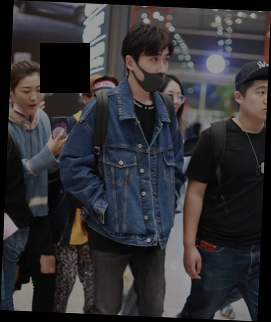mask_weared_incorrect: (136, 51, 172, 94), (14, 81, 46, 115)
without_mask: (245, 84, 267, 121), (163, 80, 183, 113)
